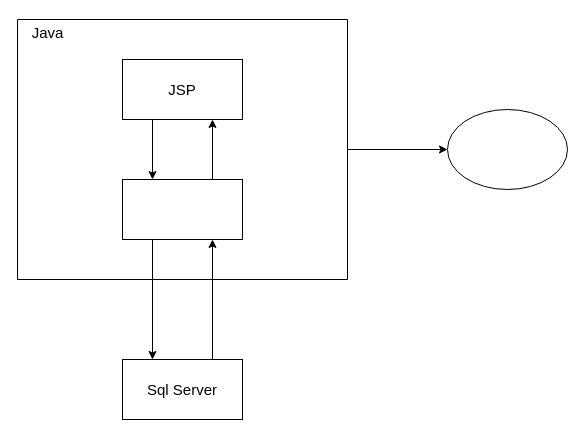
This 585x437 diagram has some shape labels left out. Each missing label, with the box of its shape:
Email API: (446, 108, 568, 190)
Servlet: (122, 178, 242, 240)
